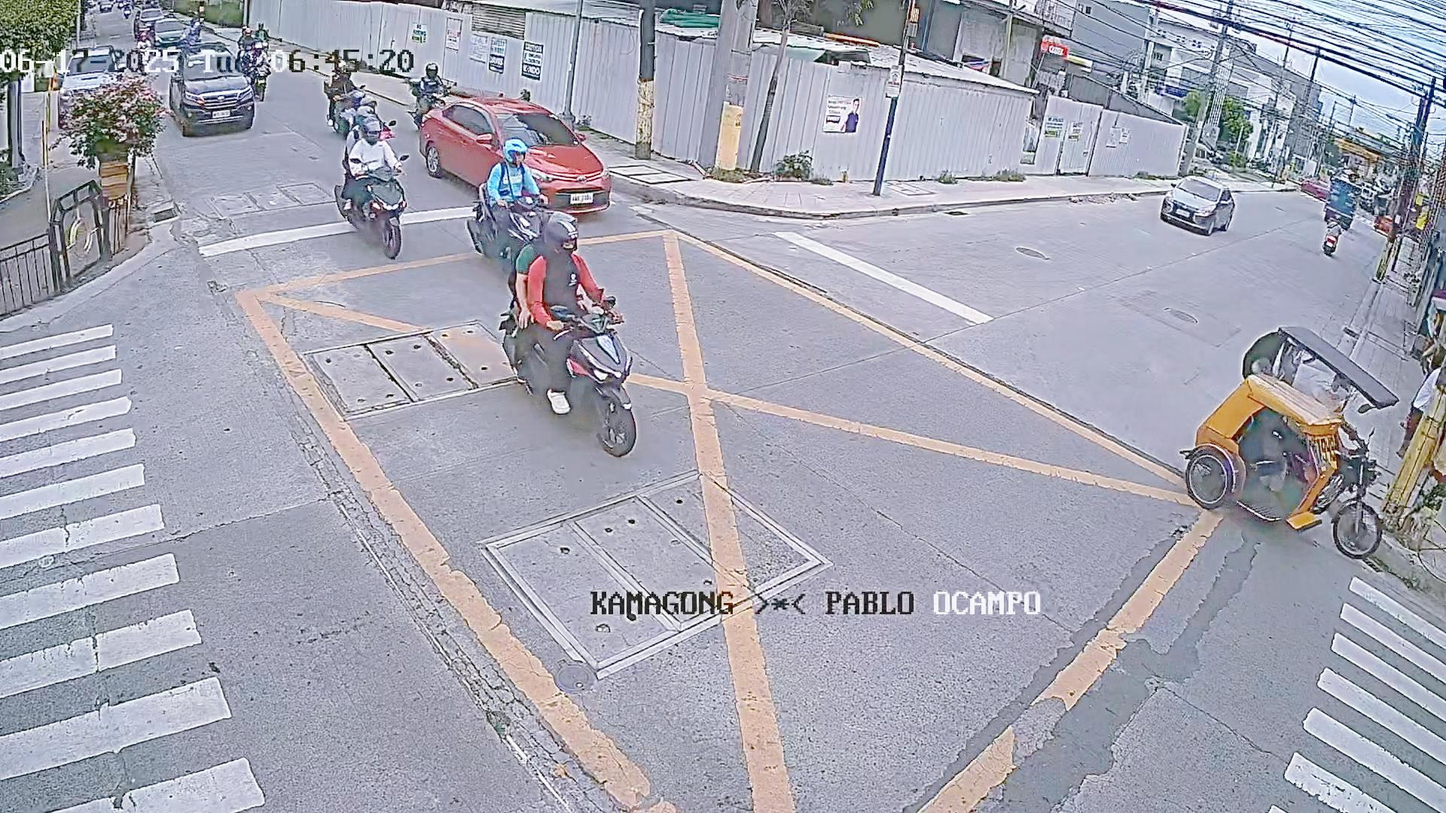Car: (418, 80, 627, 226), (1151, 168, 1267, 256), (161, 52, 261, 145), (123, 8, 197, 50)
Motor: (494, 210, 666, 451), (329, 113, 422, 268), (462, 131, 541, 263), (312, 46, 387, 142), (393, 43, 464, 126), (237, 18, 295, 95)
